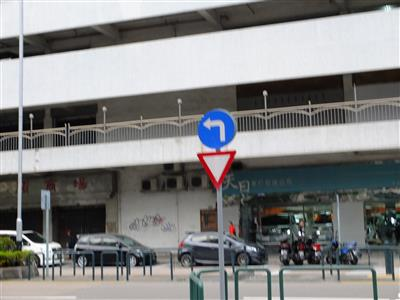leftTurnOnly: (196, 107, 237, 148)
yield: (194, 149, 238, 190)
